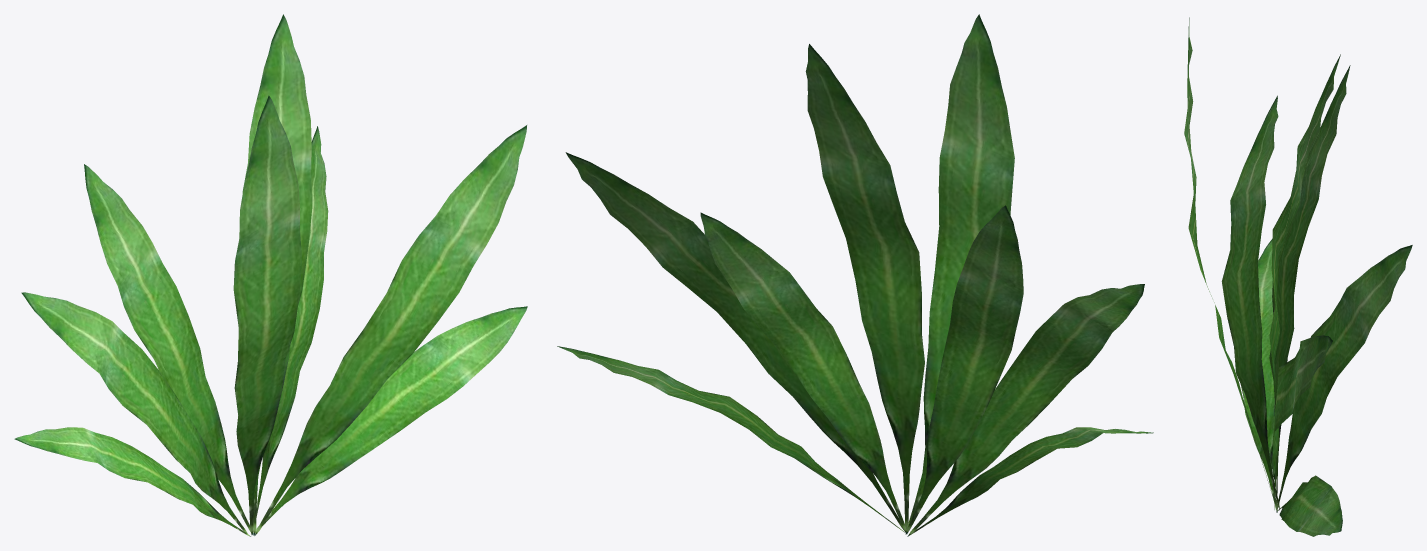
Rendered from AmazonSword.obj.
3 views of the same model, side by side, from view 1: azimuth 30°, elevation 25°; view 2: azimuth 150°, elevation 25°; view 3: azimuth 270°, elevation 25° (orthographic). The views are drawn at different scales.
Parts seen in each view (by area): view 1: AmazonSword.001_Plane.002, AmazonSword.003_Plane.005, AmazonSword.004_Plane.006, AmazonSword.006_Plane.008, AmazonSword.002_Plane.003, AmazonSword_Plane, AmazonSword.007_Plane.009, AmazonSword.005_Plane.007; view 2: AmazonSword_Plane, AmazonSword.003_Plane.005, AmazonSword.004_Plane.006, AmazonSword.007_Plane.009, AmazonSword.002_Plane.003, AmazonSword.001_Plane.002, AmazonSword.006_Plane.008, AmazonSword.005_Plane.007; view 3: AmazonSword.002_Plane.003, AmazonSword.007_Plane.009, AmazonSword.004_Plane.006, AmazonSword_Plane, AmazonSword.001_Plane.002, AmazonSword.005_Plane.007, AmazonSword.006_Plane.008, AmazonSword.003_Plane.005.
Boxes of the visible parts, <box> form: AmazonSword.001_Plane.002: <box>255,125,526,535</box>; AmazonSword.003_Plane.005: <box>233,95,302,534</box>; AmazonSword.004_Plane.006: <box>84,164,253,535</box>; AmazonSword.006_Plane.008: <box>253,306,527,534</box>; AmazonSword.002_Plane.003: <box>21,292,247,533</box>; AmazonSword_Plane: <box>242,14,312,535</box>; AmazonSword.007_Plane.009: <box>252,126,328,533</box>; AmazonSword.005_Plane.007: <box>14,427,250,536</box>; AmazonSword_Plane: <box>805,44,924,528</box>; AmazonSword.003_Plane.005: <box>906,14,1014,534</box>; AmazonSword.004_Plane.006: <box>905,205,1023,534</box>; AmazonSword.007_Plane.009: <box>700,212,906,532</box>; AmazonSword.002_Plane.003: <box>908,284,1144,536</box>; AmazonSword.001_Plane.002: <box>565,152,905,532</box>; AmazonSword.006_Plane.008: <box>557,346,905,532</box>; AmazonSword.005_Plane.007: <box>907,427,1153,536</box>; AmazonSword.002_Plane.003: <box>1221,95,1279,510</box>; AmazonSword.007_Plane.009: <box>1276,245,1412,509</box>; AmazonSword.004_Plane.006: <box>1269,65,1350,512</box>; AmazonSword_Plane: <box>1269,54,1340,408</box>; AmazonSword.001_Plane.002: <box>1272,335,1332,509</box>; AmazonSword.005_Plane.007: <box>1240,238,1277,512</box>; AmazonSword.006_Plane.008: <box>1277,475,1342,536</box>; AmazonSword.003_Plane.005: <box>1184,17,1275,505</box>.
Bounding box in the file's own units: 2.89 × 2.45 × 1.03.
1 material, 1 textured.
